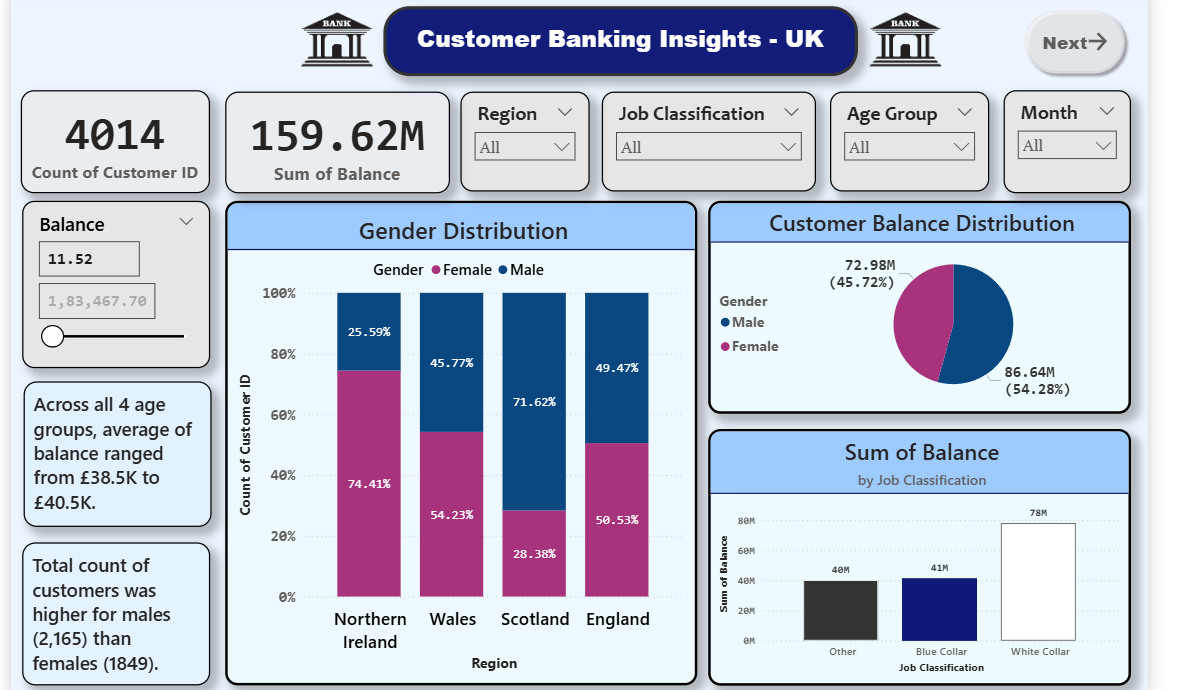

The page's visual inventory and layout, read from the dashboard file:
{"tool":"powerbi","page":{"name":"Page 1","canvas":[1300,800],"ordinal":0},"visuals":[{"type":"textbox","box":[425.4,12.6,543.2,80.1],"z":0},{"type":"card","fields":{"Values":["CountNonNull(P6-UK-Bank-Customers (1).Customer ID)"]},"box":[11,108.3,216.6,117.7],"z":1000},{"type":"actionButton","box":[1150.7,9.4,130.3,87.9],"z":2000},{"type":"hundredPercentStackedColumnChart","title":"Gender Distribution","fields":{"Category":["P6-UK-Bank-Customers (1).Region"],"Series":["P6-UK-Bank-Customers (1).Gender"],"Y":["CountNonNull(P6-UK-Bank-Customers (1).Customer ID)"]},"box":[244.9,235.5,540,554.2],"z":3000},{"type":"pieChart","title":"Customer Balance Distribution","fields":{"Category":["P6-UK-Bank-Customers (1).Gender"],"Y":["Sum(P6-UK-Bank-Customers (1).Balance)"]},"box":[797.5,235.5,483.5,243.3],"z":4000},{"type":"slicer","fields":{"Values":["P6-UK-Bank-Customers (1).Balance"]},"box":[12.6,235.5,215.1,191.5],"z":5000},{"type":"slicer","fields":{"Values":["P6-UK-Bank-Customers (1).Job Classification"]},"box":[675,109.9,244.9,114.6],"z":6000},{"type":"slicer","fields":{"Values":["P6-UK-Bank-Customers (1).Region"]},"box":[513.4,109.9,147.6,114.6],"z":7000},{"type":"image","box":[287.3,12.6,172.7,76.9],"z":8000},{"type":"image","box":[937.2,12.6,172.7,76.9],"z":9000},{"type":"slicer","fields":{"Values":["P6-UK-Bank-Customers (1).Date Joined.Variation.Date Hierarchy.Month"]},"box":[1135,108.3,146,117.7],"z":10000},{"type":"textbox","box":[14.1,442.7,215.1,166.4],"z":11000},{"type":"card","title":"S","fields":{"Values":["Sum(P6-UK-Bank-Customers (1).Balance)"]},"box":[244.9,109.9,257.5,116.2],"z":12000},{"type":"slicer","fields":{"Values":["P6-UK-Bank-Customers (1).Age Group"]},"box":[937.2,109.9,182.1,114.6],"z":13000},{"type":"columnChart","fields":{"Category":["P6-UK-Bank-Customers (1).Job Classification"],"Y":["Sum(P6-UK-Bank-Customers (1).Balance)"]},"box":[797.5,496.1,483.5,293.6],"z":14000},{"type":"textbox","box":[12.6,626.4,215.1,163.3],"z":15000}]}

Visuals, with their boxes on the page's 1300x800 design canvas (x1, y1, x2, y2). These are canvas units, not pixel positions in the 1191x690 screenshot, which may show the page scaled, cropped or inside an application window:
textbox: (left=425, top=13, right=969, bottom=93)
card - CountNonNull(P6-UK-Bank-Customers (1).Customer ID): (left=11, top=108, right=228, bottom=226)
actionButton: (left=1151, top=9, right=1281, bottom=97)
"Gender Distribution" hundredPercentStackedColumnChart: (left=245, top=236, right=785, bottom=790)
"Customer Balance Distribution" pieChart: (left=798, top=236, right=1281, bottom=479)
slicer - P6-UK-Bank-Customers (1).Balance: (left=13, top=236, right=228, bottom=427)
slicer - P6-UK-Bank-Customers (1).Job Classification: (left=675, top=110, right=920, bottom=224)
slicer - P6-UK-Bank-Customers (1).Region: (left=513, top=110, right=661, bottom=224)
image: (left=287, top=13, right=460, bottom=90)
image: (left=937, top=13, right=1110, bottom=90)
slicer - P6-UK-Bank-Customers (1).Date Joined.Variation.Date Hierarchy.Month: (left=1135, top=108, right=1281, bottom=226)
textbox: (left=14, top=443, right=229, bottom=609)
"S" card: (left=245, top=110, right=502, bottom=226)
slicer - P6-UK-Bank-Customers (1).Age Group: (left=937, top=110, right=1119, bottom=224)
columnChart - P6-UK-Bank-Customers (1).Job Classification x Sum(P6-UK-Bank-Customers (1).Balance): (left=798, top=496, right=1281, bottom=790)
textbox: (left=13, top=626, right=228, bottom=790)
